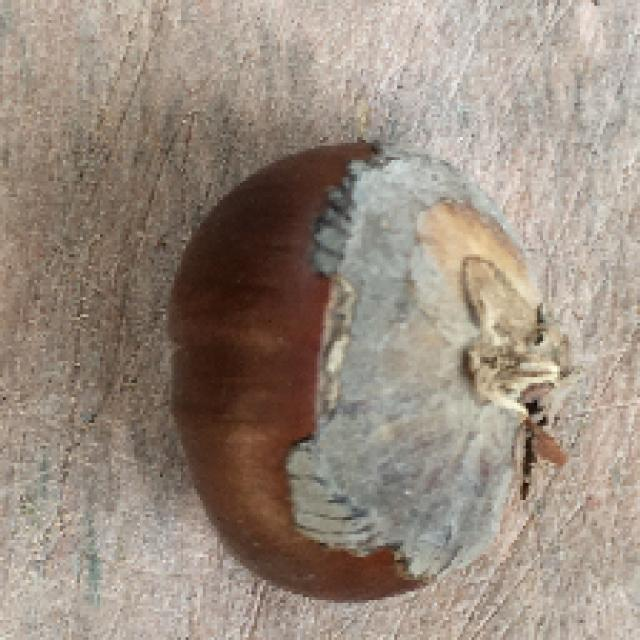damagedHazelnut: (162, 126, 560, 612)
